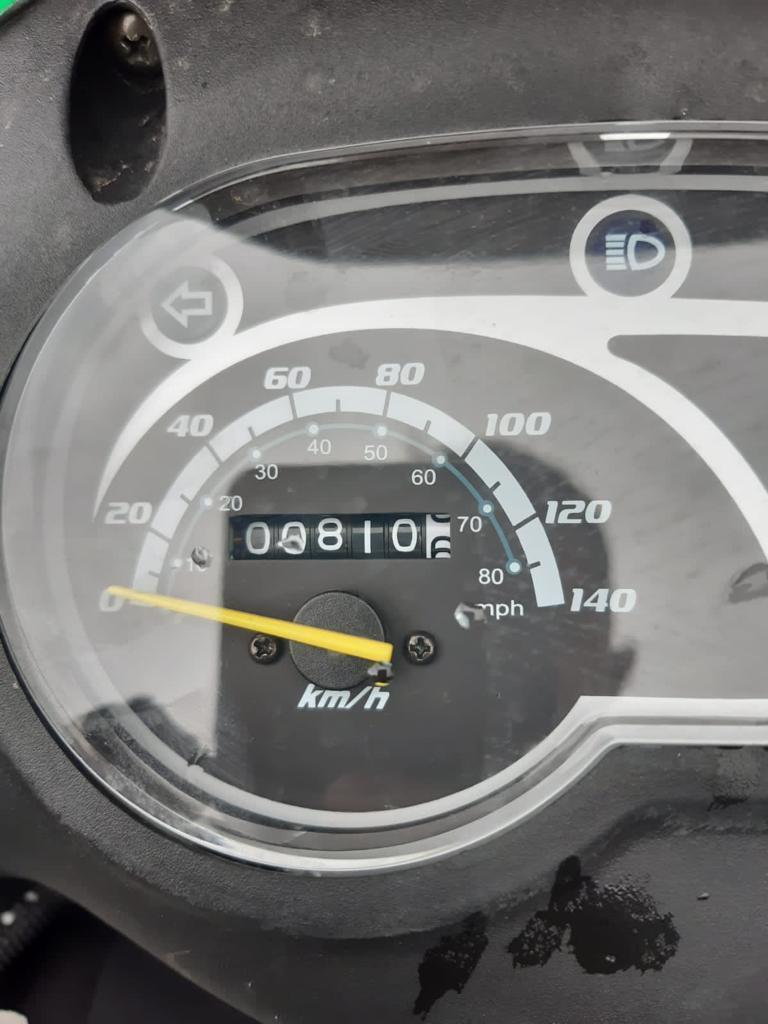0: (390, 516, 420, 555), (243, 520, 271, 558), (277, 519, 306, 554)
1: (362, 519, 373, 558)
6: (428, 533, 455, 562)
8: (315, 515, 344, 552)
odometer: (216, 509, 466, 567)
